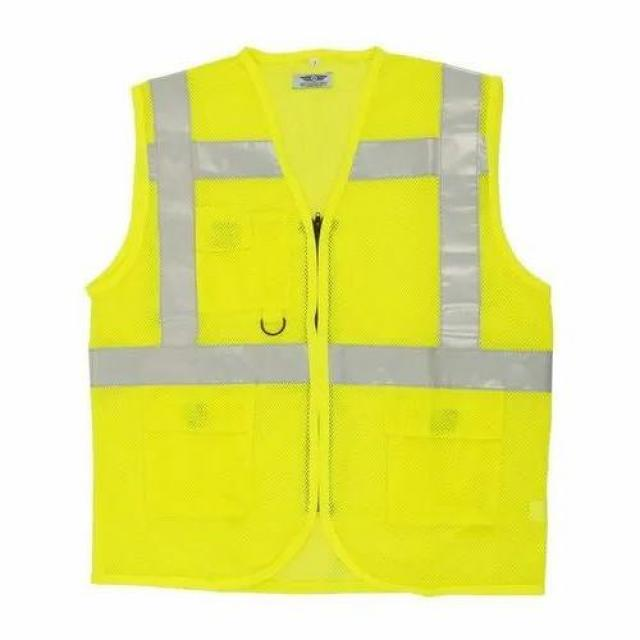Reflective-Jacket: (38, 34, 589, 600)
